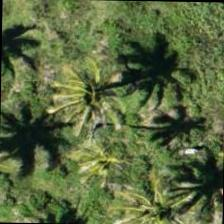Kelapa_Sawit: (52, 97, 144, 189), (40, 55, 132, 146), (116, 168, 209, 223)
